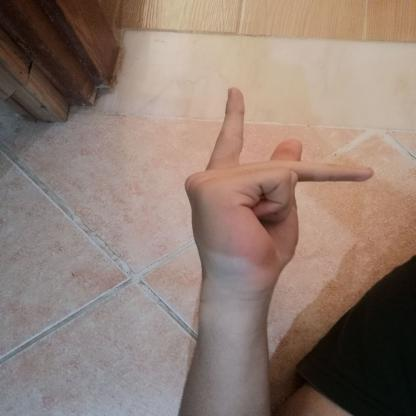DHAA: (172, 79, 389, 298)
